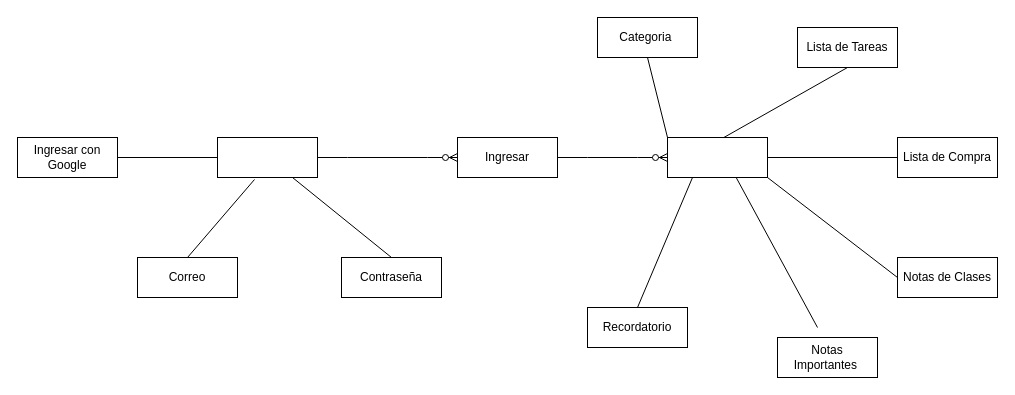
The diagram is 1015 pixels wide and 395 high, and some of its shapes have lost their labels. The shapes that lost their labels are listed below. From the top down, each one's centre as x and y in pixels, then its label:
At (267,157): "Login".
At (717,157): "Pagina Principal".
